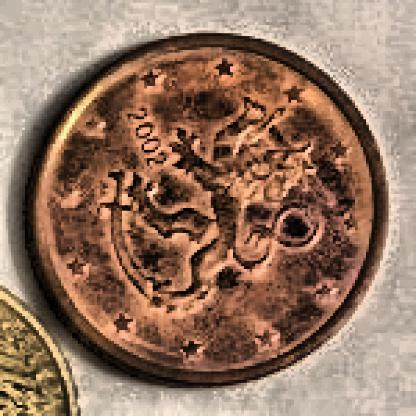coin: (24, 35, 382, 391)
